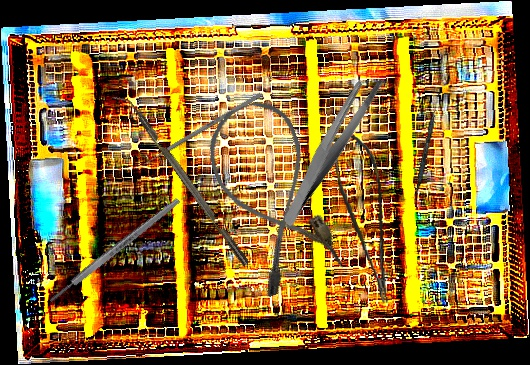Cannula: (195, 92, 348, 300)
Chopper: (112, 87, 250, 273)
Dressing Forceps: (250, 69, 411, 227)
Micro Scissor: (329, 127, 395, 307)
Pusher: (135, 92, 262, 171)
Scalpel Handle: (47, 196, 182, 305)
Spatula Surgical: (412, 90, 441, 206)
